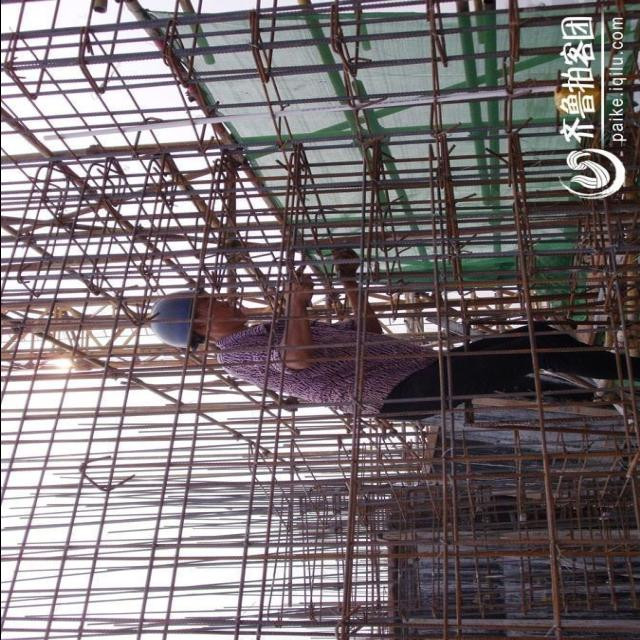helmet: (135, 284, 202, 360)
